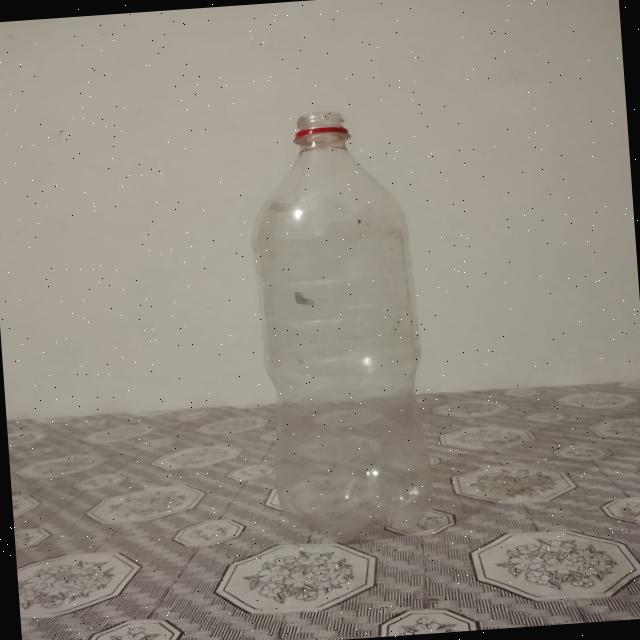bottle: (238, 105, 443, 545)
